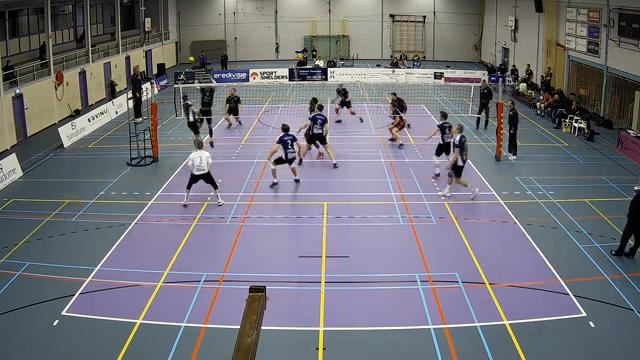Attack: (176, 88, 209, 153)
Block: (196, 77, 219, 149)
Player: (183, 139, 223, 206), (298, 104, 337, 168), (438, 124, 469, 196), (268, 123, 300, 187), (425, 111, 452, 179), (333, 84, 356, 122), (389, 103, 405, 148), (225, 88, 241, 127), (304, 127, 323, 158), (390, 92, 407, 114)
ball: (188, 55, 194, 65)
